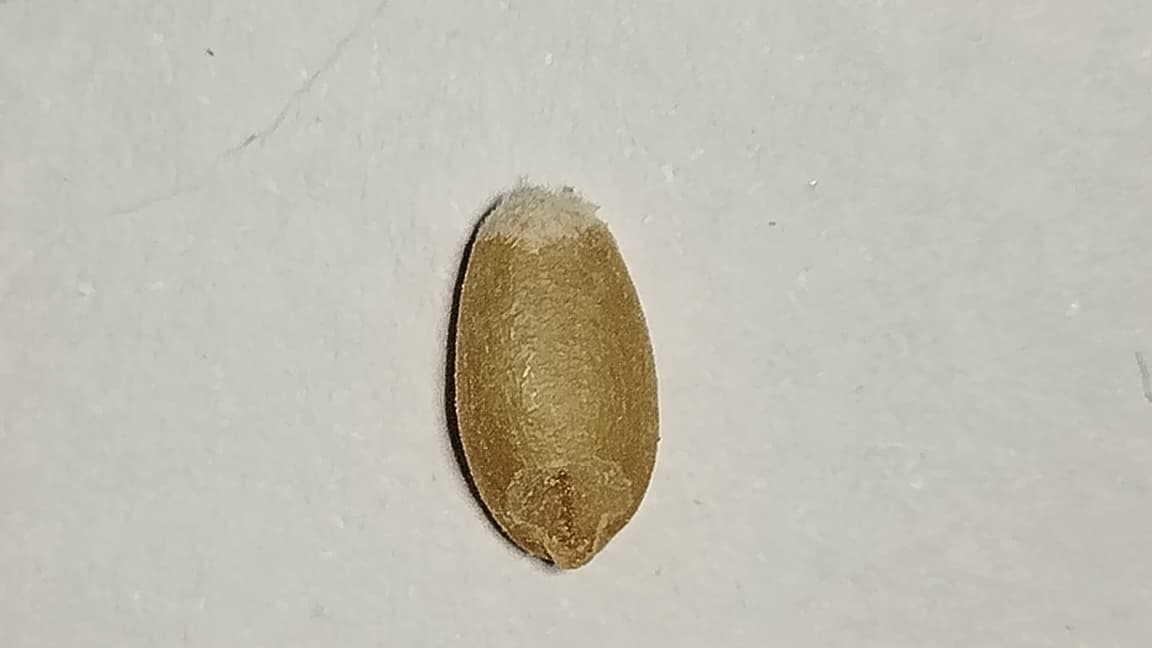damage: (453, 181, 660, 568)
insectdamage: (507, 453, 641, 569)
